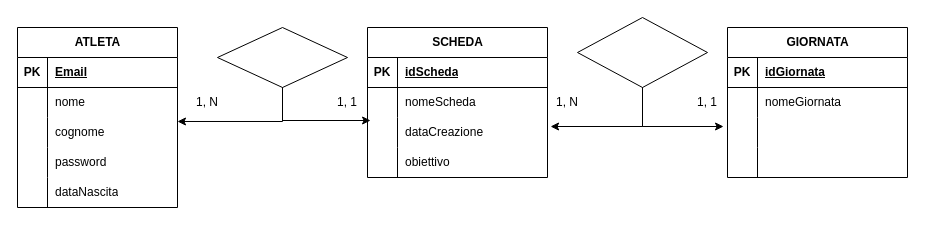
Image size: 925x225. Some labels were removed from this diagram. Here are the shapes that lost their labels. From the top down, the centre of each, then its label:
(282,57): POSSESSO
(642,52): COMPOSIZIONE
